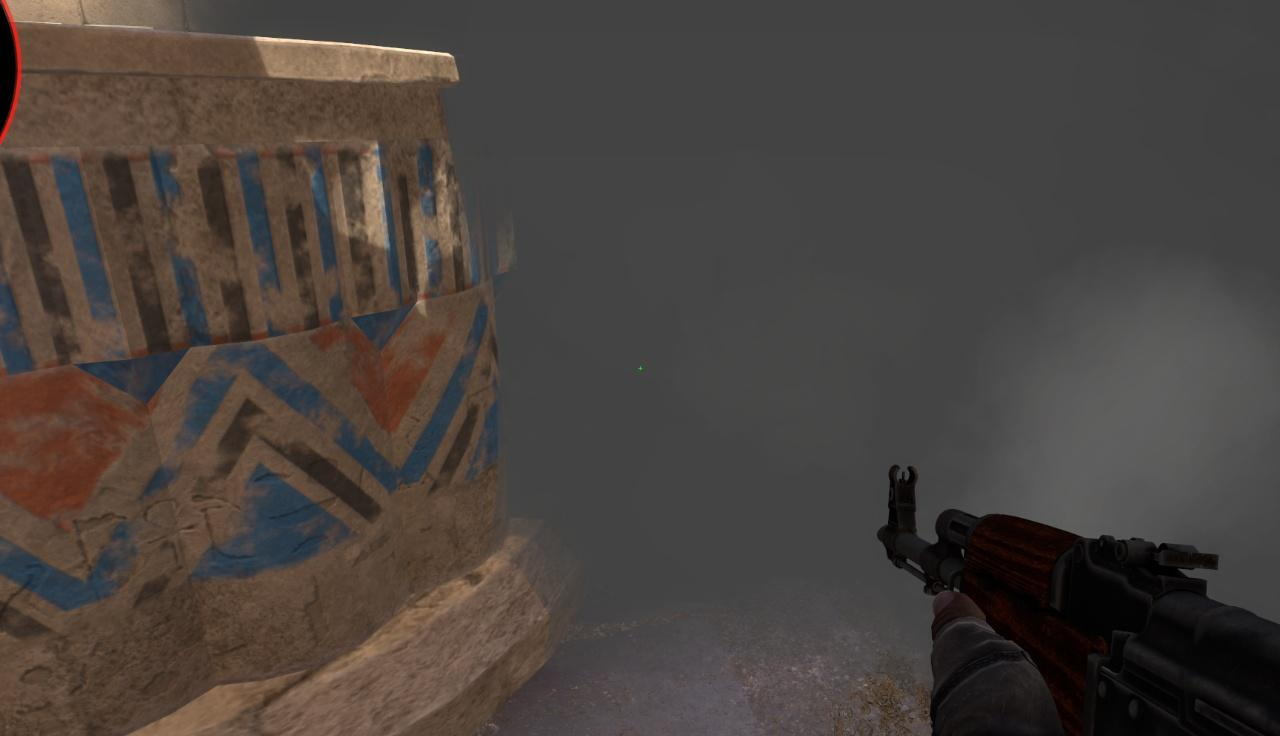rifle: (882, 461, 1280, 732)
